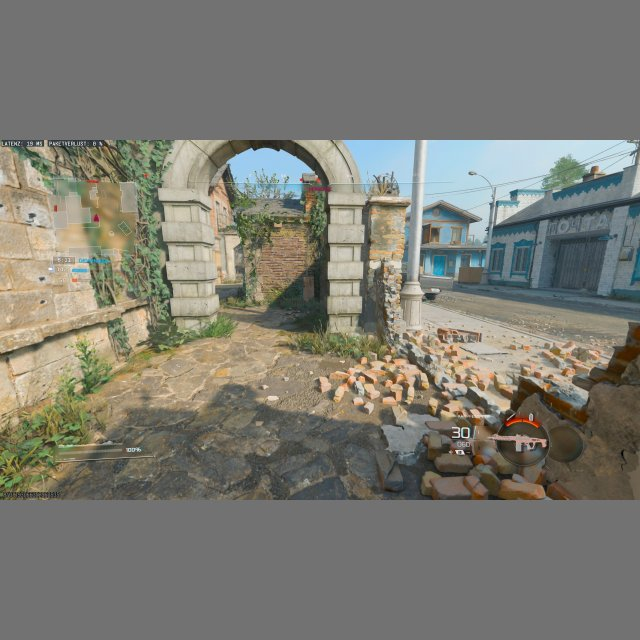player: (404, 214, 640, 500)
